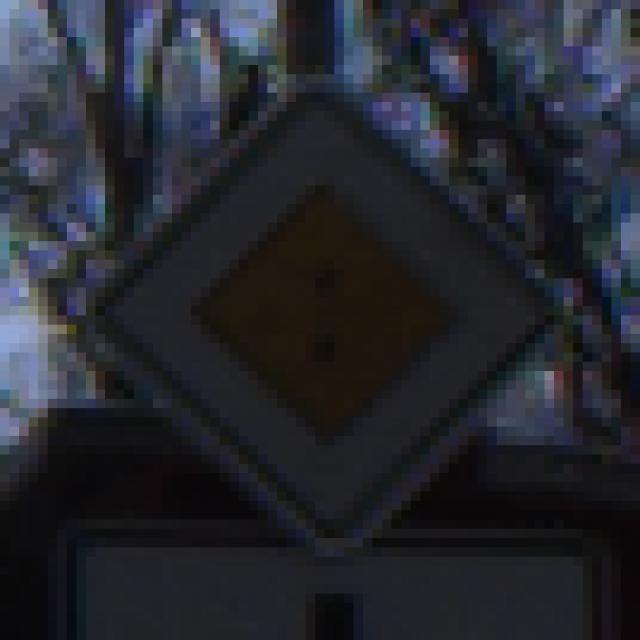Main Road: (58, 57, 584, 585)
